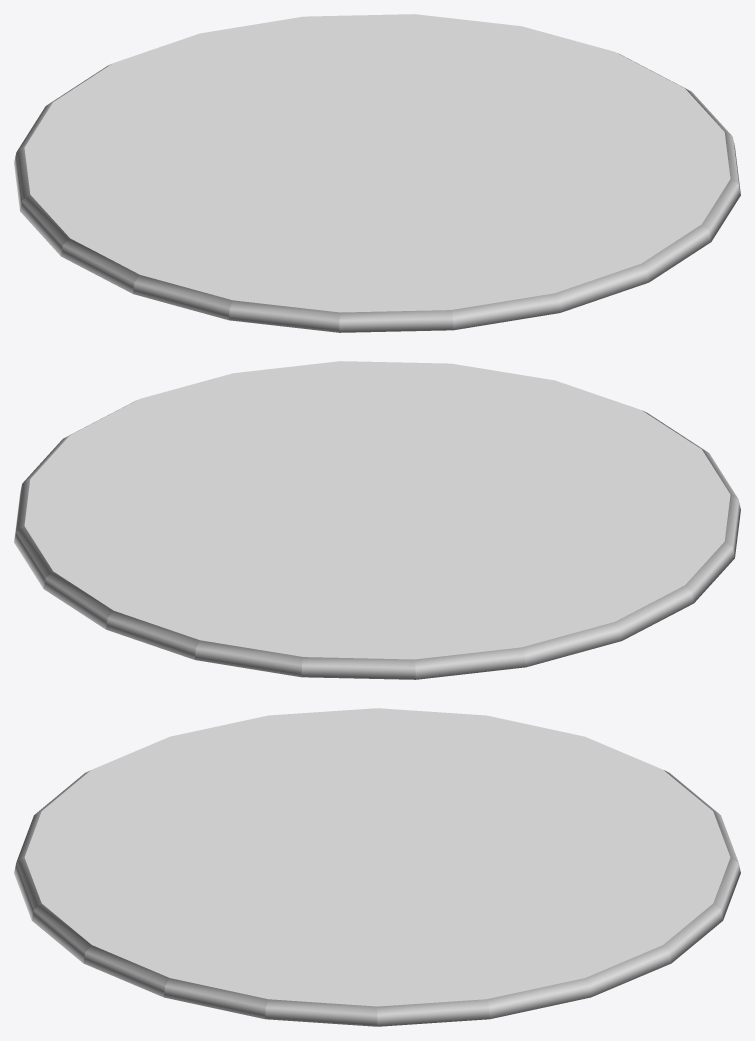
File: Floor.fbx
3 views of the same model, one above another, from view 1: azimuth 30°, elevation 25°; view 2: azimuth 150°, elevation 25°; view 3: azimuth 270°, elevation 25° (orthographic).
Parts seen in each view (by area): view 1: Floor; view 2: Floor; view 3: Floor.
Part boxes in pixels (bbox=[...]): Floor: bbox=[14, 14, 740, 332]; Floor: bbox=[14, 361, 740, 679]; Floor: bbox=[14, 708, 740, 1026].
Bounding box in the file's own units: 6480 × 6480 × 209.
